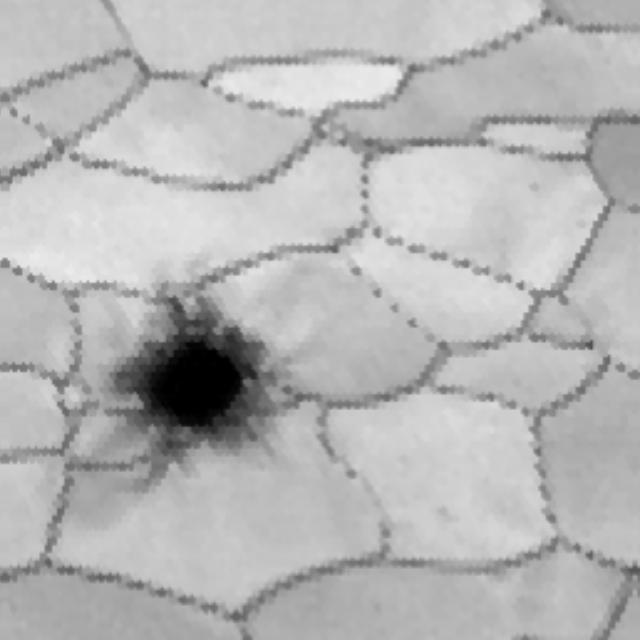good_void: (71, 279, 301, 525)
